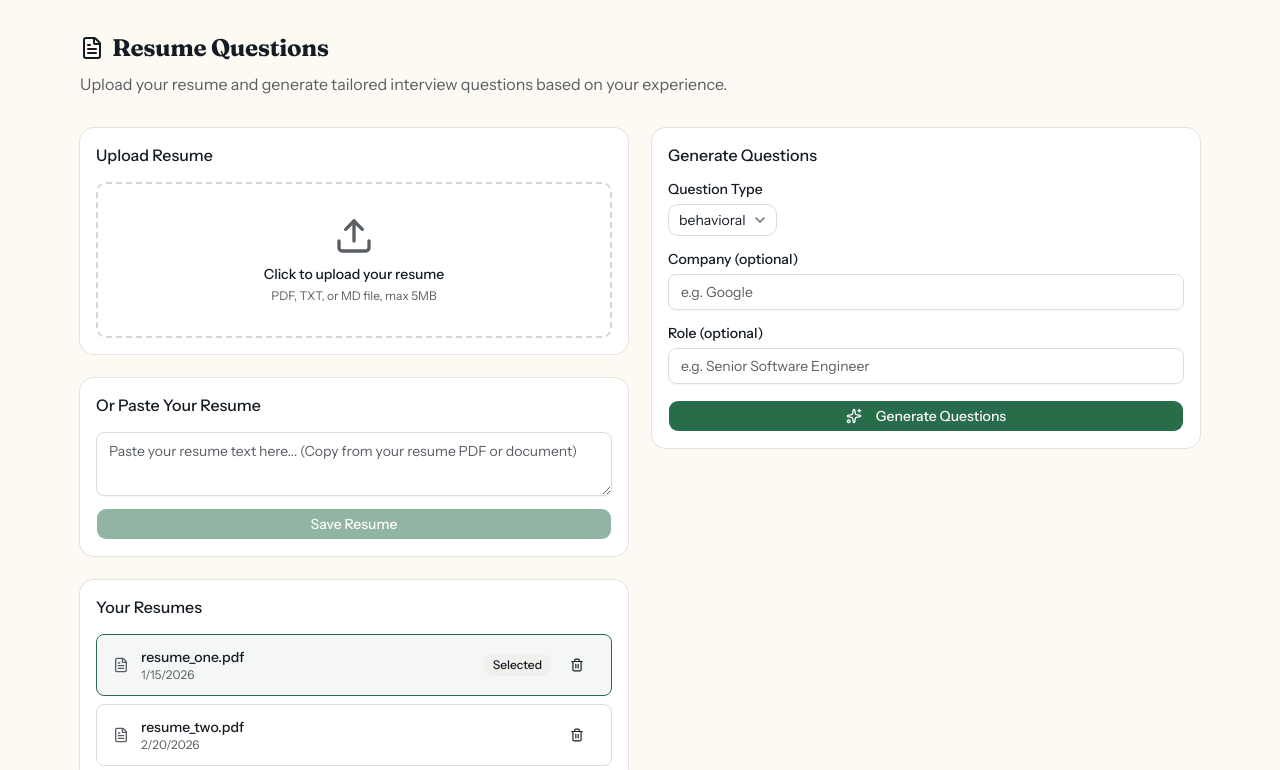
Test: ResumePage — delete feature (117-F through 117-J) › hides confirm strip when Cancel is clicked
The width and height of the screenshot is (1280, 770).
Click the button named "delete resume_one.pdf": point(577, 665) 559,651 -> 595,679
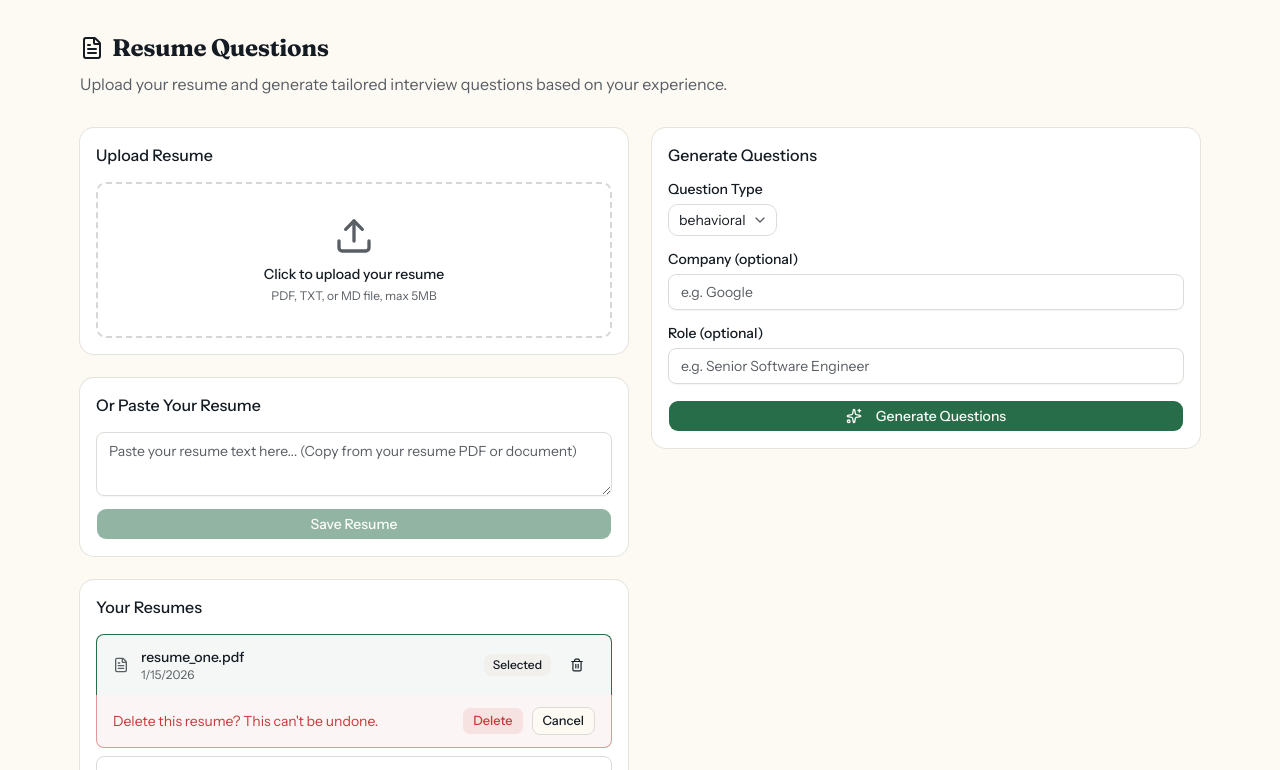
Click Cancel
Click the button "Cancel": point(563, 721) 532,707 -> 595,735
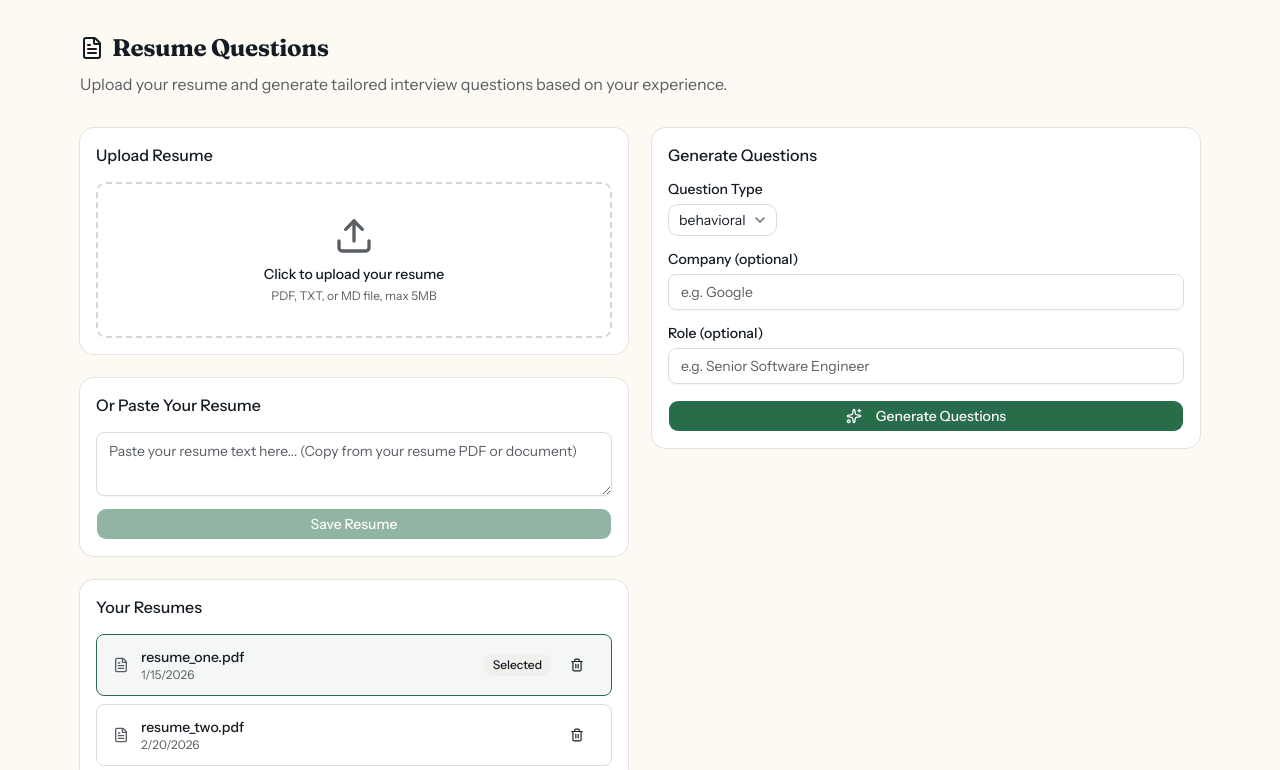
Expected: the text "Delete this resume? This can't be undone." is gone
